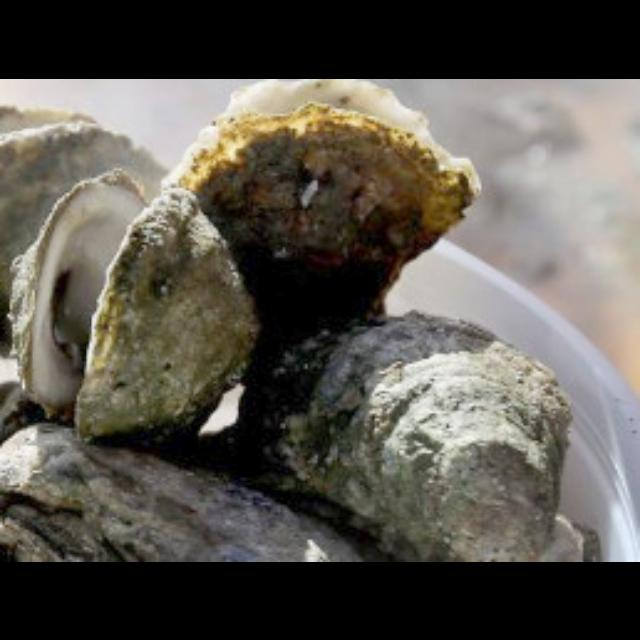Oyster-Closed: (281, 312, 586, 562), (0, 427, 366, 562)
Oyster-Open: (166, 78, 481, 439), (8, 177, 256, 436), (0, 104, 168, 359)
